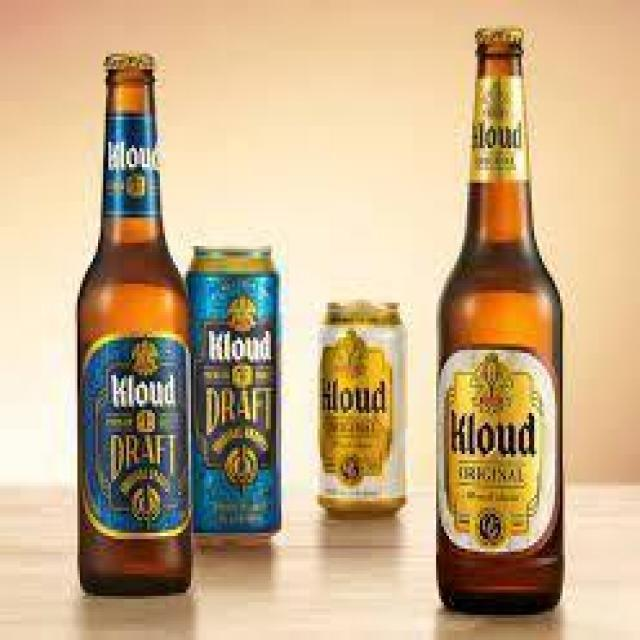beer-bottle: (435, 25, 569, 615), (79, 51, 192, 594)
beer-can: (184, 244, 284, 550), (316, 300, 412, 524)
